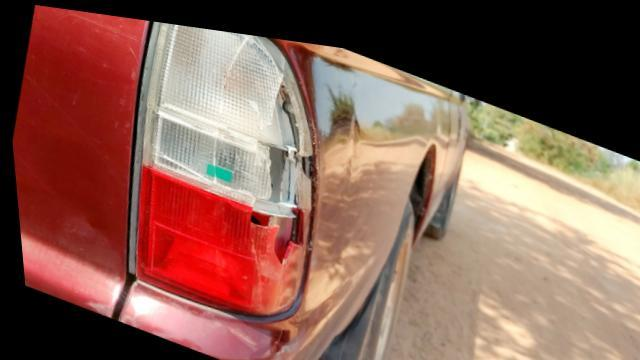lamp broken: (130, 18, 310, 310)
